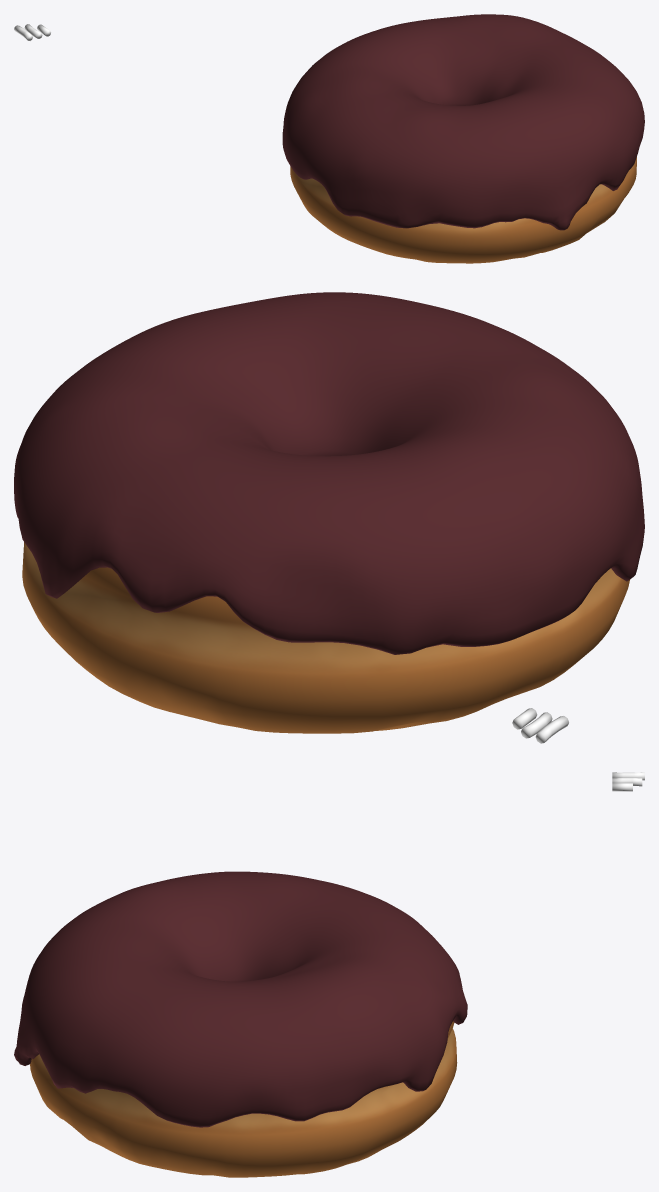
File: donut2.gltf
3 views of the same model, one above another, from view 1: azimuth 30°, elevation 25°; view 2: azimuth 150°, elevation 25°; view 3: azimuth 270°, elevation 25° (orthographic). The views are drawn at different scales.
Parts seen in each view (by area): view 1: Icing, Dough; view 2: Icing, Dough; view 3: Icing, Dough.
Part boxes in pixels (x1,y1,x2,y2): Icing: [282, 14, 644, 230]; Dough: [290, 157, 636, 263]; Icing: [14, 292, 644, 654]; Dough: [22, 542, 629, 733]; Icing: [14, 871, 467, 1127]; Dough: [30, 1021, 457, 1177].
Bounding box in the file's own units: 1.41 × 0.4563 × 1.41.
3 materials, 1 textured.
